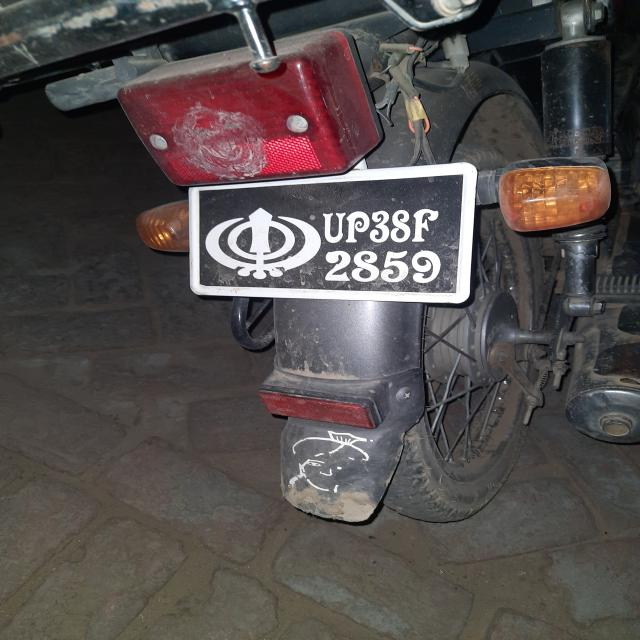Number_Plate_Detected: (184, 160, 482, 307)
